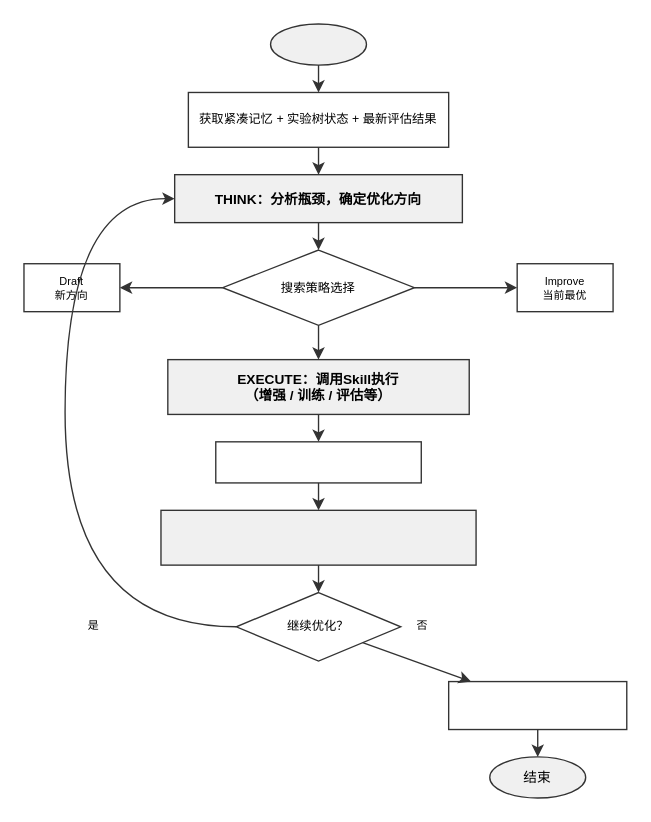
The diagram is 651 pixels wide and 822 high, and some of its shapes have lost their labels. The shapes that lost their labels are listed below. From the top down, each one's centre as x and y in pixels, then its label:
At (317,44): "开始".
At (317,461): "等待执行结果".
At (318,537): "REFLECT：分析结果，对比基线， 记录经验到记忆系统".
At (537,705): "生成优化总结报告 存入数据库".
